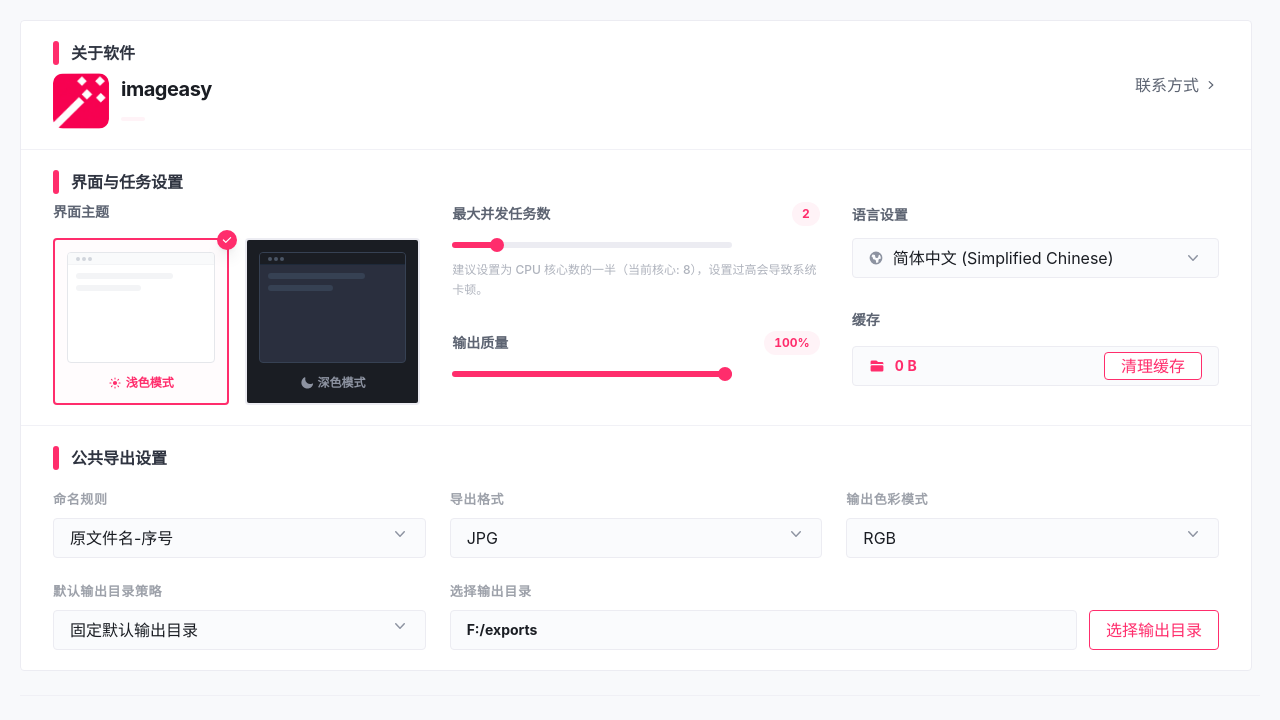
SettingsPage › restores the loaded values when the user resets the draft
The image size is (1280, 720).
Step 1. Set the slider labelled "最大并发任务数" to "5" → point(611, 245), box [452,242,732,248]
(page scrolled)
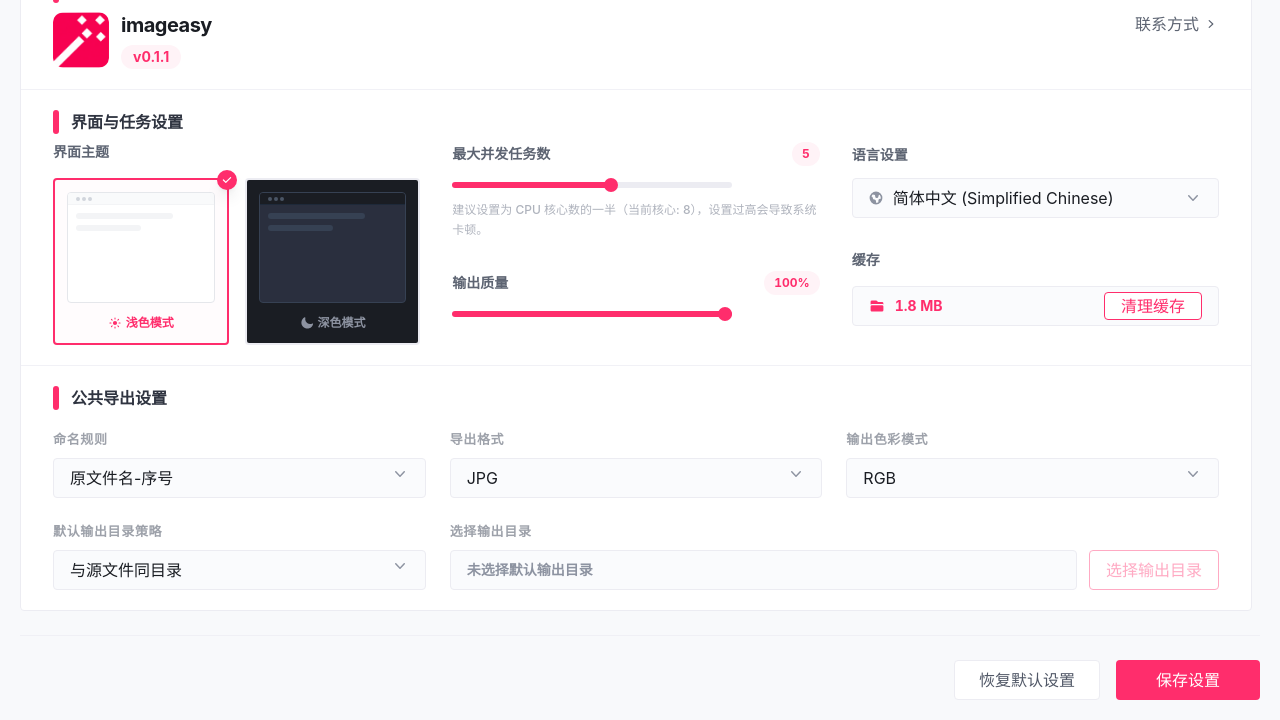
Step 2. Click the button "恢复默认设置" → point(1027, 680), box [954,660,1100,700]
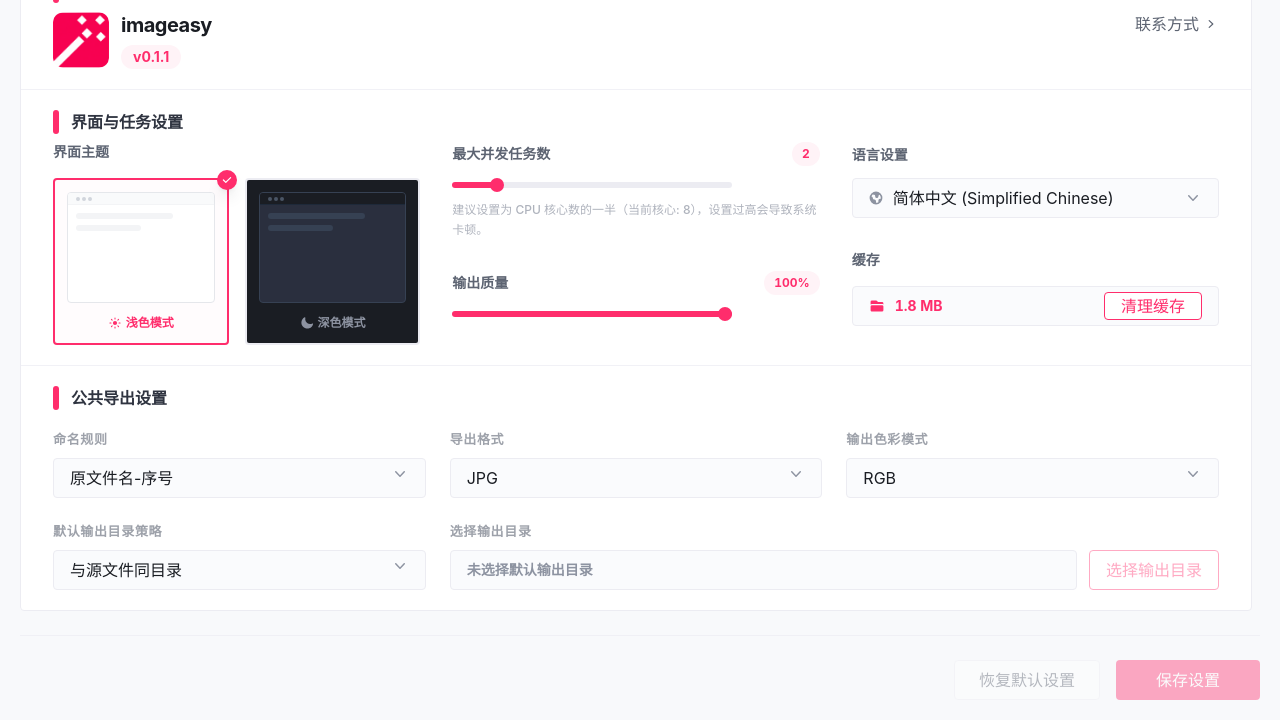
Result: the slider showing "2" is shown at [452,182,732,188]
